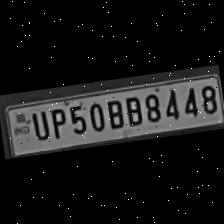0: (84, 98, 106, 133)
4: (177, 84, 200, 119), (160, 86, 181, 122)
5: (64, 101, 89, 137)
8: (140, 89, 163, 124), (196, 81, 218, 116)
B: (120, 93, 144, 127), (102, 95, 125, 130)
P: (46, 104, 68, 140)
U: (27, 107, 50, 142)
